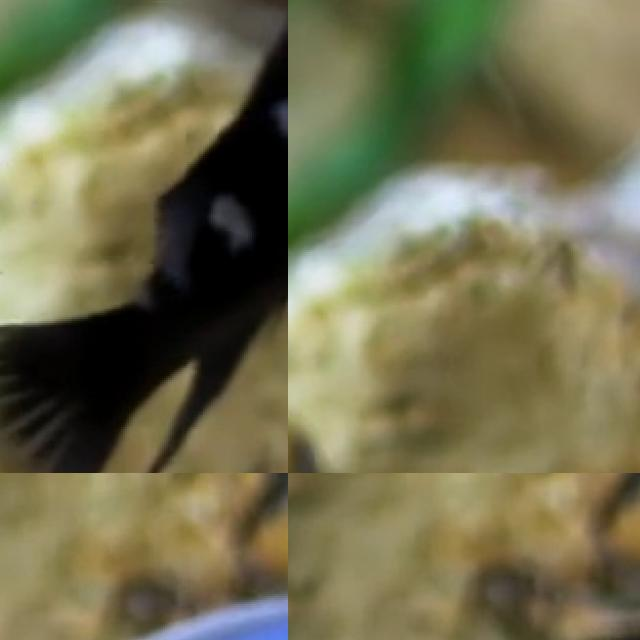fish: (0, 0, 288, 473), (0, 577, 288, 640), (341, 611, 640, 640)
